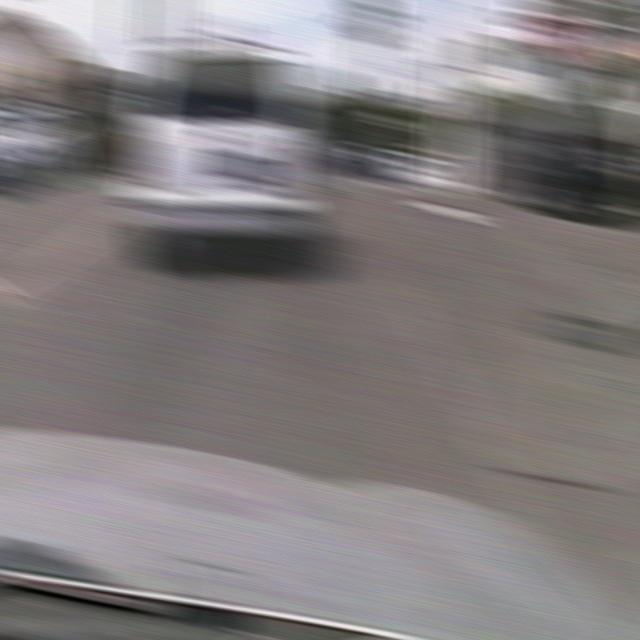stop_sign: (534, 13, 581, 59)
